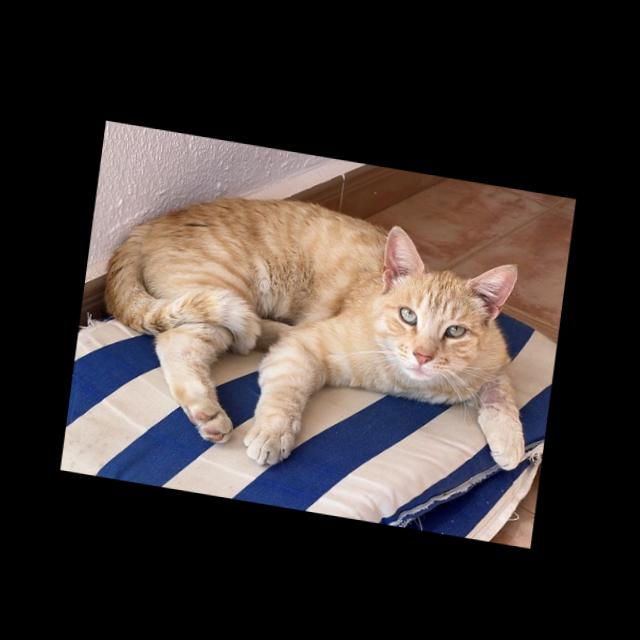animals: (85, 168, 552, 504)
